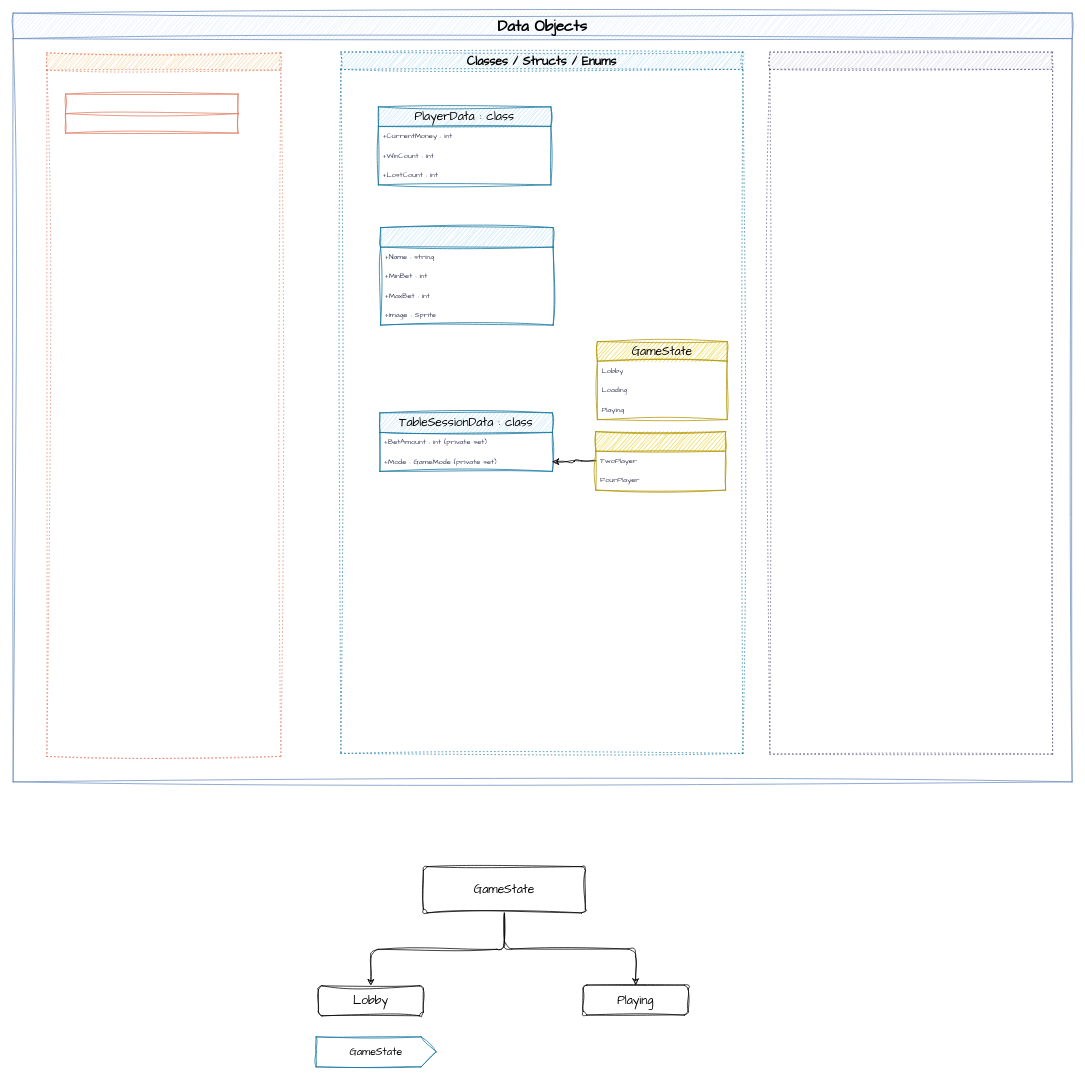
Some shapes in this 1085 by 1080 pixel diagram are drawn without their labels. The shapes that lost their labels are listed below. From the top down, each one's box as (x1, y1, x2, y2) in pixels, then its label:
(380, 227, 553, 325): RoomData : class
(46, 52, 281, 756): Scriptable Objects
(769, 51, 1053, 754): Abstracts / Interfaces
(595, 431, 726, 490): GameMode : enum
